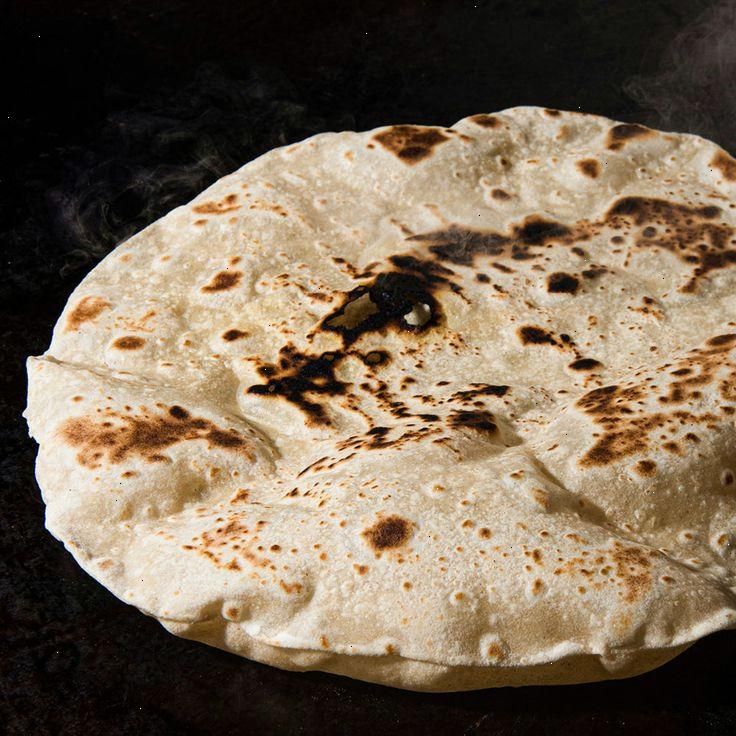roti phulka: (31, 106, 736, 692)
